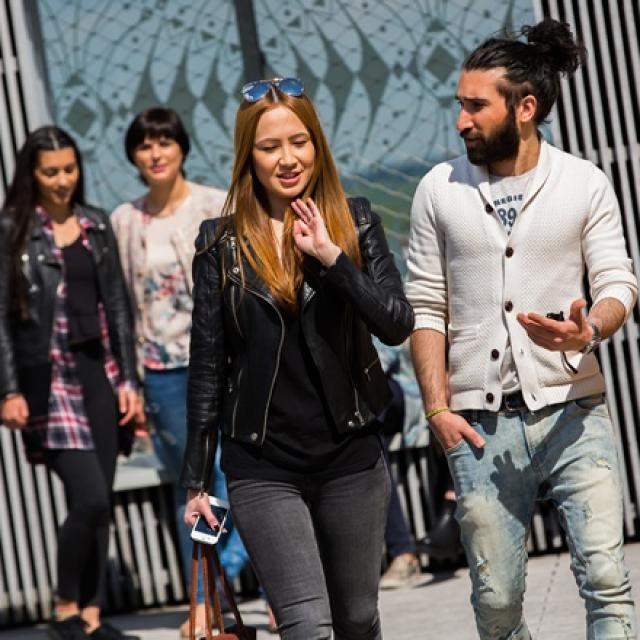body: (388, 9, 638, 638), (172, 67, 424, 638), (102, 102, 262, 640), (0, 119, 145, 638), (352, 306, 486, 589)
